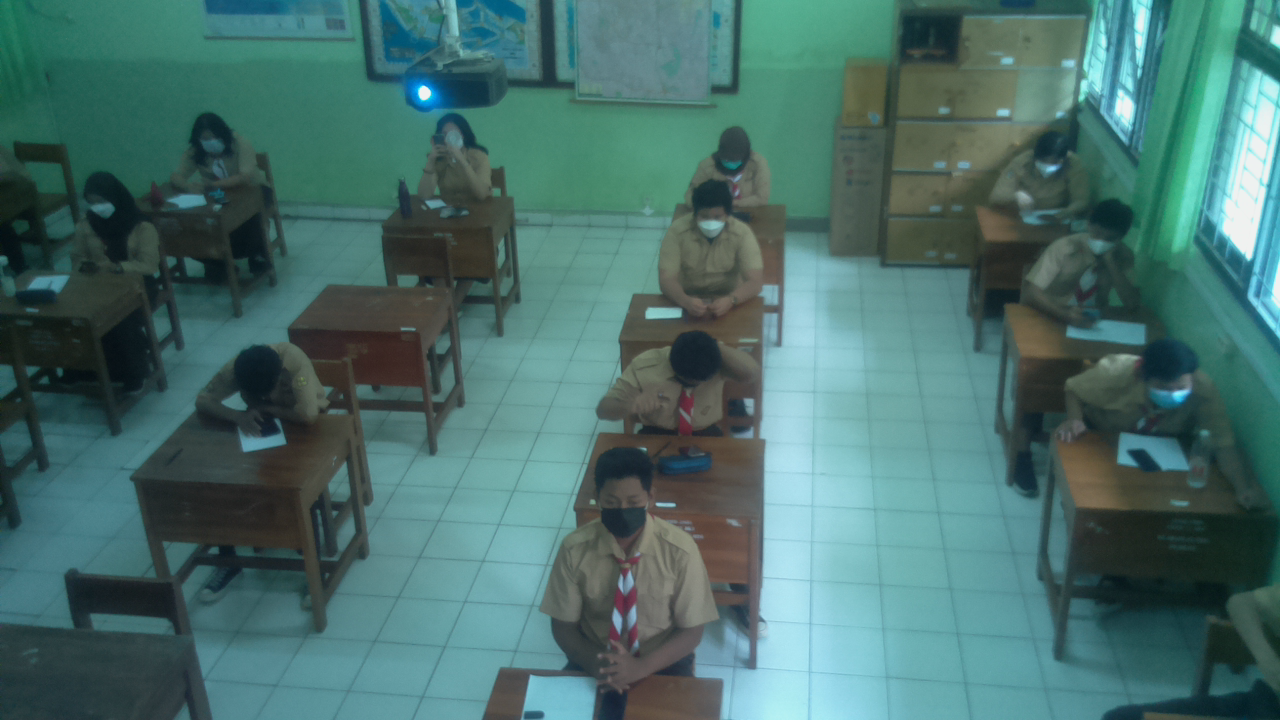Student: (555, 447, 697, 671), (623, 329, 753, 429), (1077, 343, 1206, 435), (661, 185, 761, 296), (1043, 191, 1131, 305), (69, 167, 160, 268), (219, 343, 319, 417), (1007, 131, 1090, 213), (689, 128, 769, 203), (423, 115, 492, 201), (183, 111, 260, 184)
